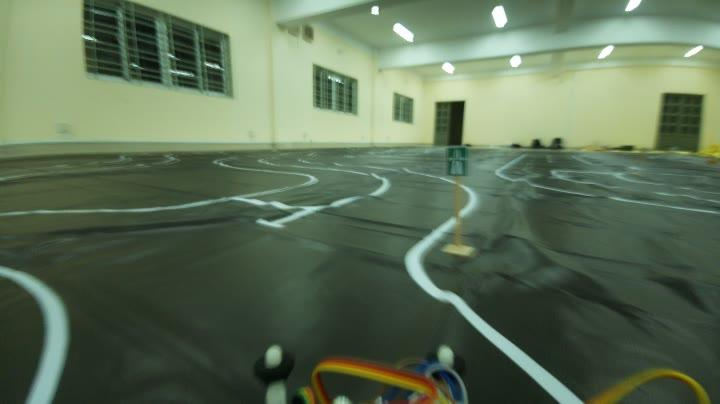highway_entry: (436, 140, 474, 180)
